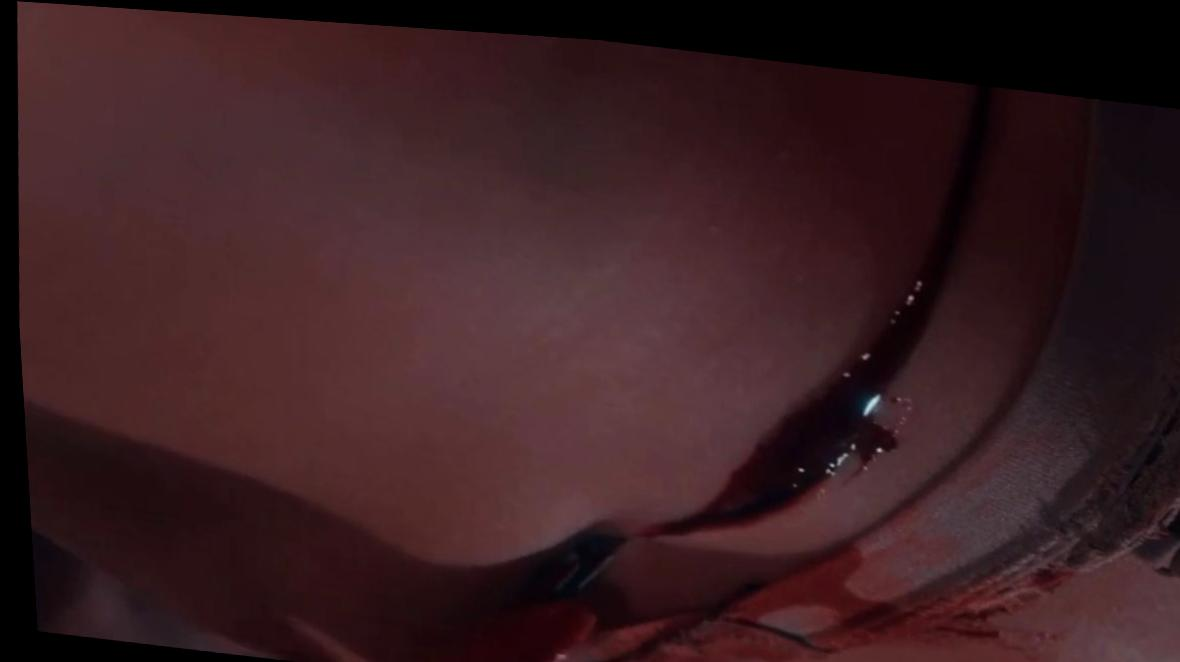Fire: (431, 69, 1060, 662)
